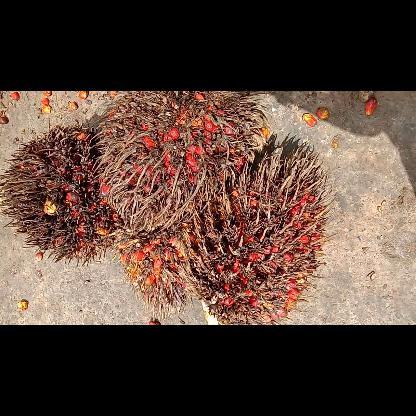Terlalu masak: (184, 130, 341, 324), (90, 91, 276, 235), (0, 120, 131, 264), (110, 218, 204, 324)
